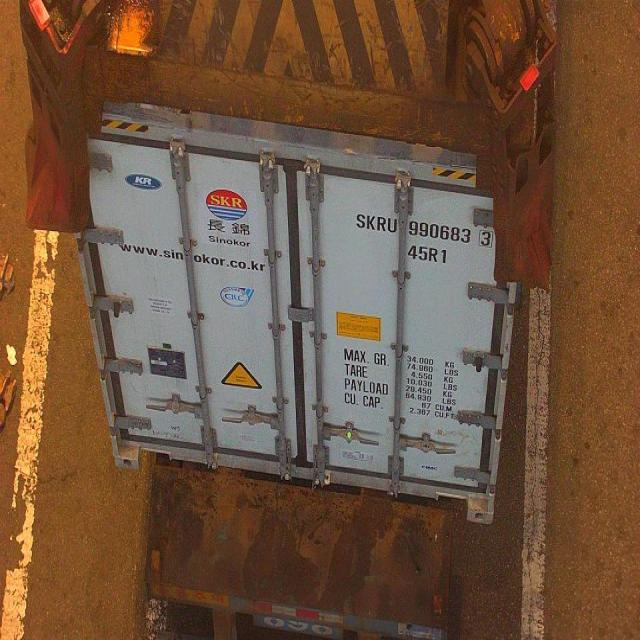ISO: (411, 244, 449, 265)
container_number: (357, 210, 492, 250)
